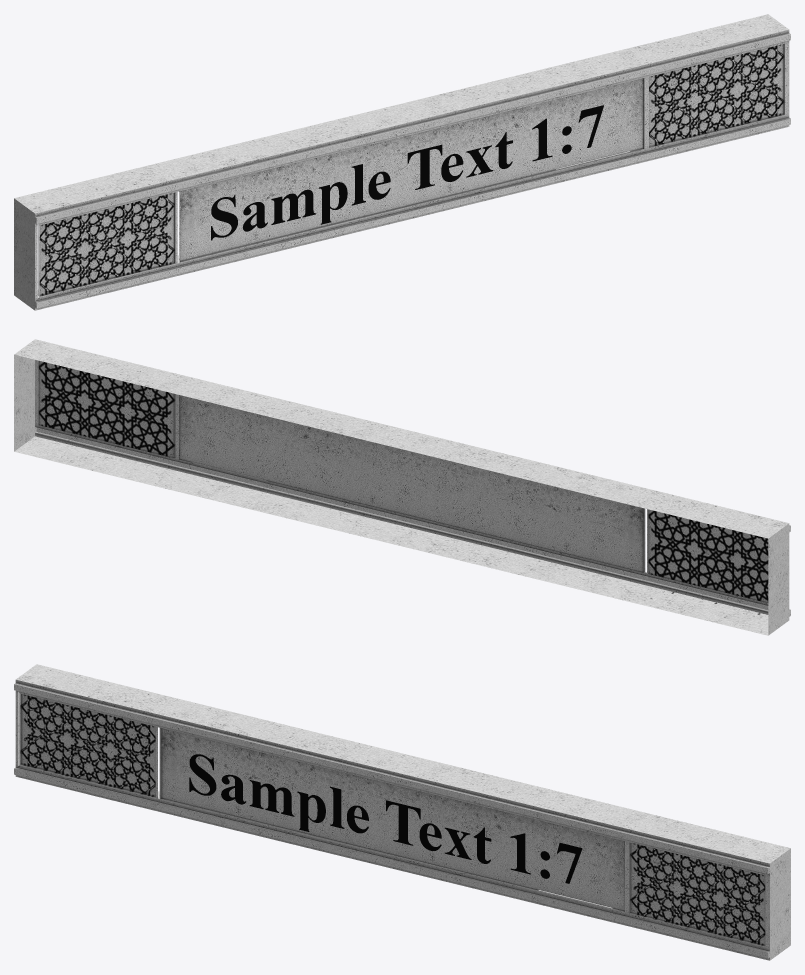
The model's file is name_2.glb.
The picture shows the model from 3 angles, top to bottom: view 1: azimuth 30°, elevation 25°; view 2: azimuth 150°, elevation 25°; view 3: azimuth 330°, elevation 25°; orthographic projection.
Parts seen in each view (by area): view 1: name_2, name_2_img; view 2: name_2; view 3: name_2, name_2_img.
Part boxes in pixels (x1,y1,x2,y2): name_2: (14,14,790,310); name_2_img: (211,105,603,240); name_2: (14,339,790,635); name_2: (14,664,790,960); name_2_img: (189,754,582,883).
Bounding box in the file's own units: 6.5 × 0.8 × 0.3389.
2 materials, 2 textured.
